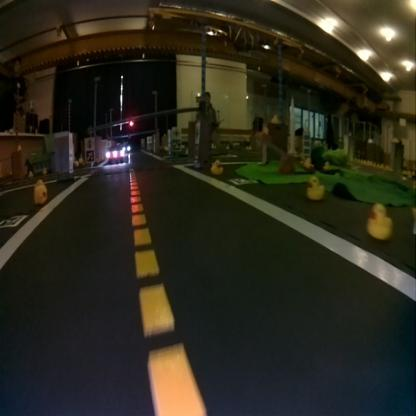Duckie: (366, 202, 392, 238), (306, 177, 324, 199), (33, 178, 47, 204), (210, 160, 223, 174)
Duckiebot: (105, 146, 124, 163)
QR code: (229, 176, 257, 185), (84, 149, 95, 161), (172, 138, 180, 150), (193, 145, 198, 161)
Traffic light: (128, 118, 134, 127)
